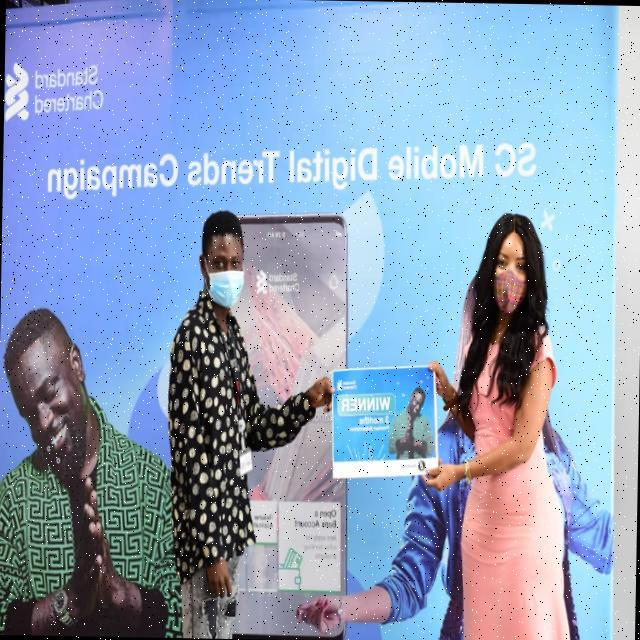Standard Chartered: (4, 57, 104, 121)
